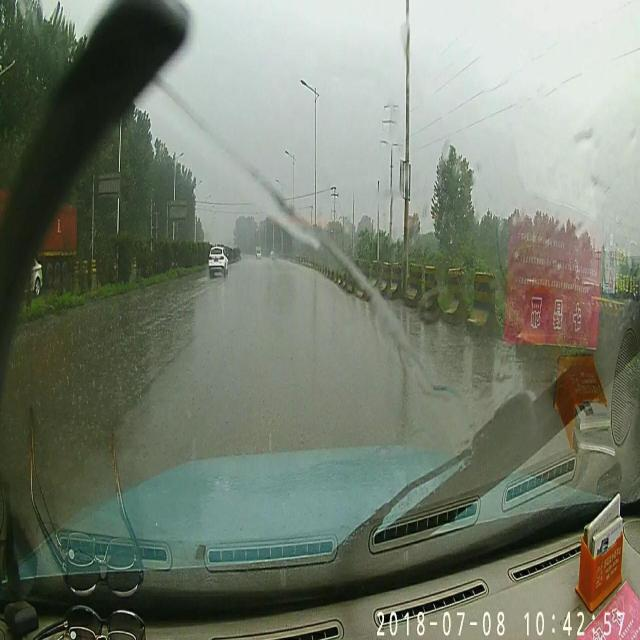car: (207, 241, 229, 278), (253, 240, 263, 260)
